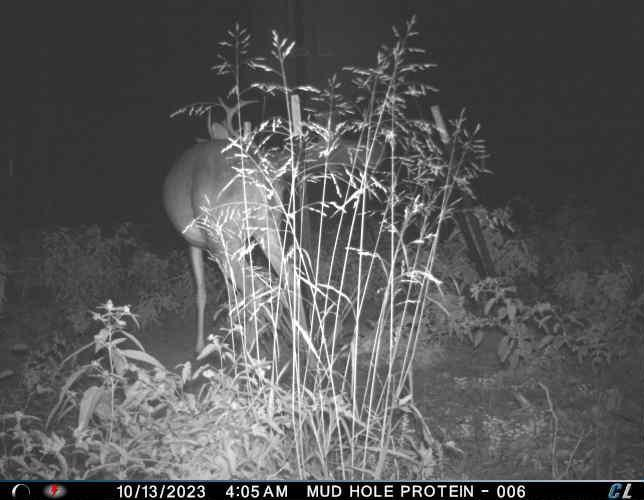Deer: (159, 93, 323, 376)
